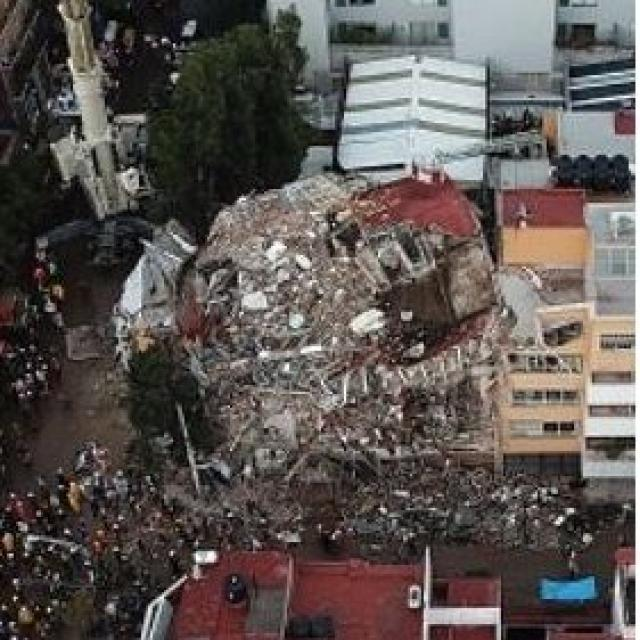collapsed_building: (123, 176, 476, 504)
